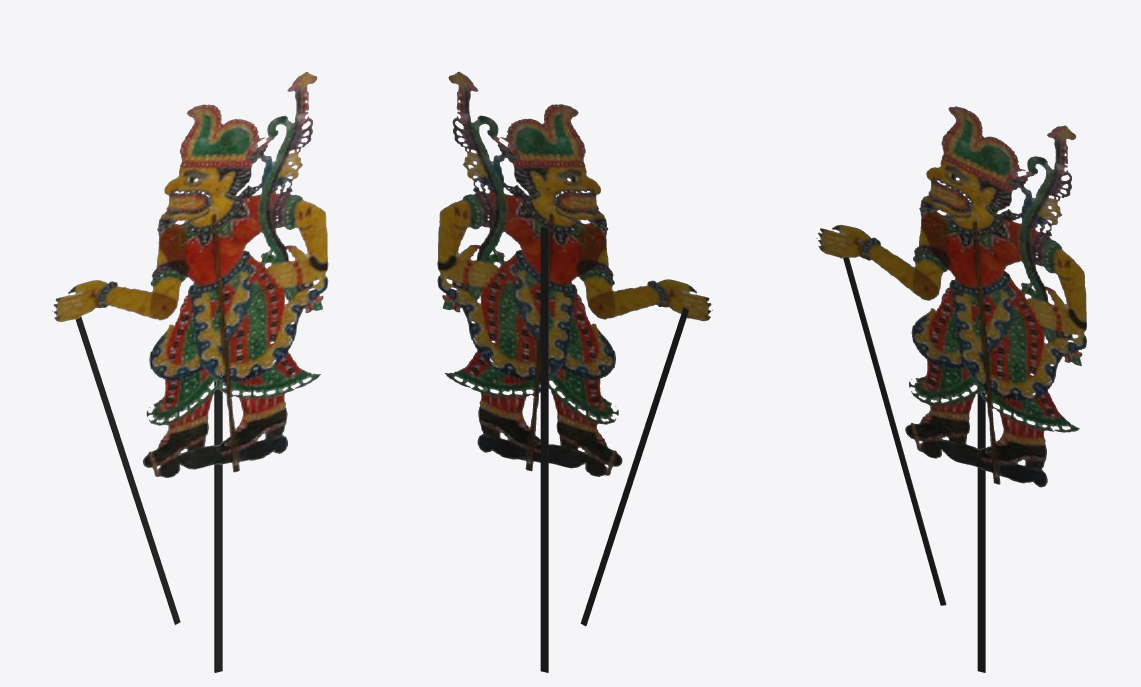
The model's file is WK_BabuSenam.fbx.
3 renders of one model, left to right at view 1: azimuth 30°, elevation 25°; view 2: azimuth 150°, elevation 25°; view 3: azimuth 330°, elevation 25°, orthographic. The views are drawn at different scales.
Visible parts, largest first — view 1: Babu Senam; view 2: Babu Senam; view 3: Babu Senam.
Boxes of the visible parts, x1,y1,x2,y2 form: Babu Senam: (52,72,328,672); Babu Senam: (437,71,712,672); Babu Senam: (816,106,1086,672).
Size of the model in its own units: 162 by 271 by 1.98.
